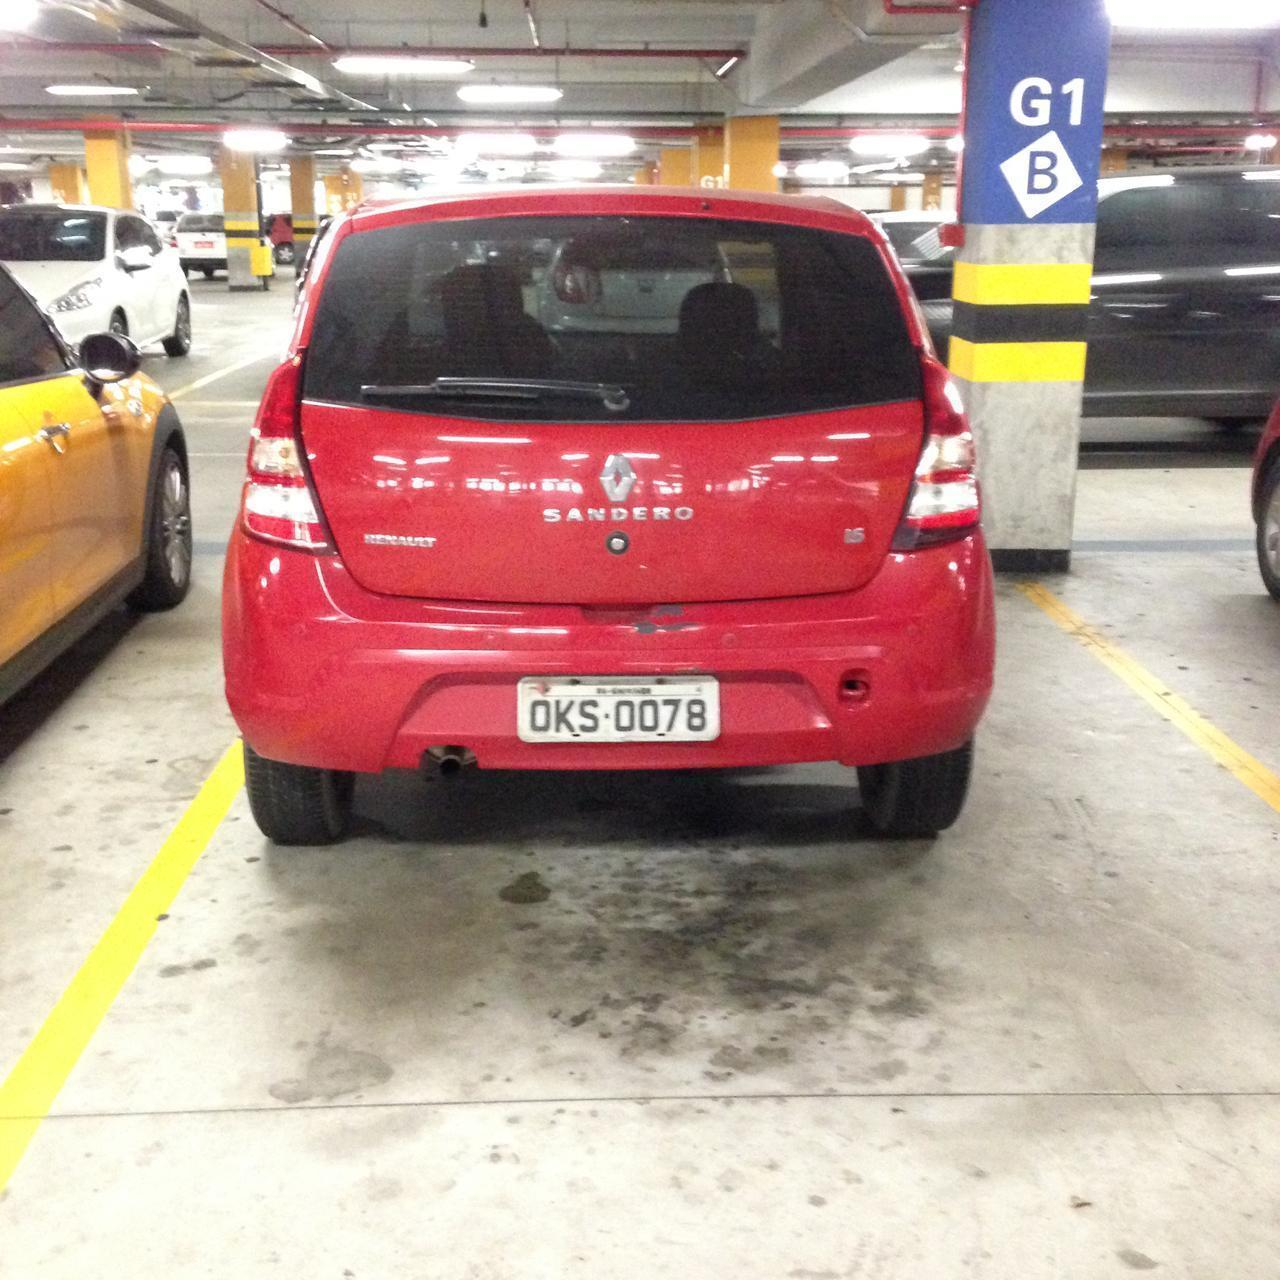placa de veiculo: (499, 657, 739, 770)
